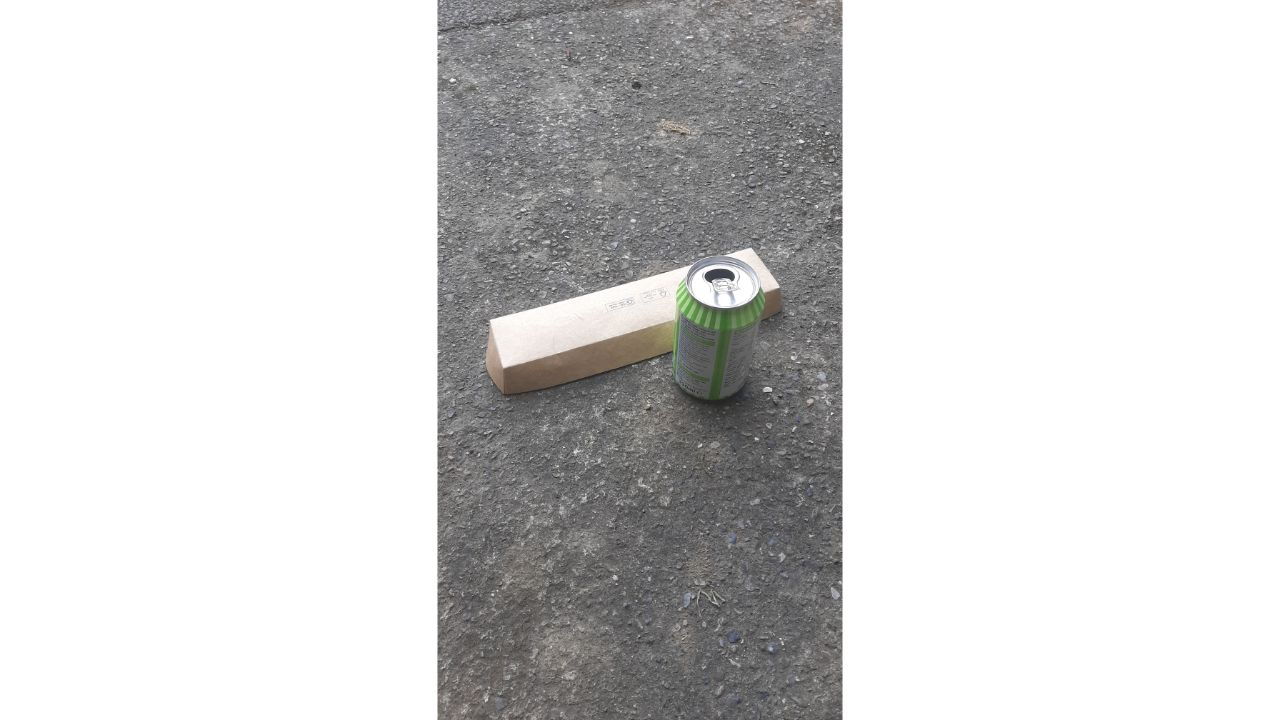Can: (665, 248, 771, 412)
